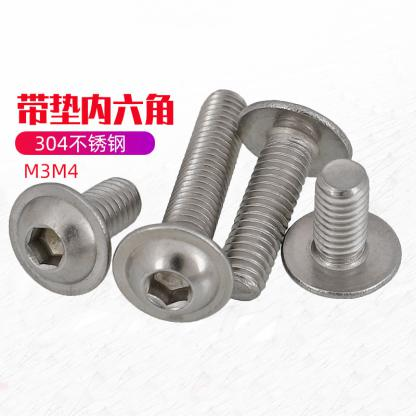FOD: (110, 87, 250, 326), (214, 96, 355, 304), (6, 175, 144, 305), (280, 157, 404, 301)
